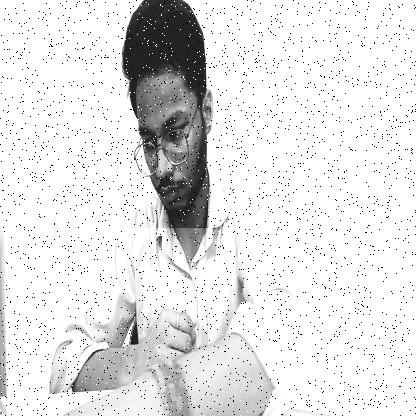Distracted: (122, 0, 211, 228)
